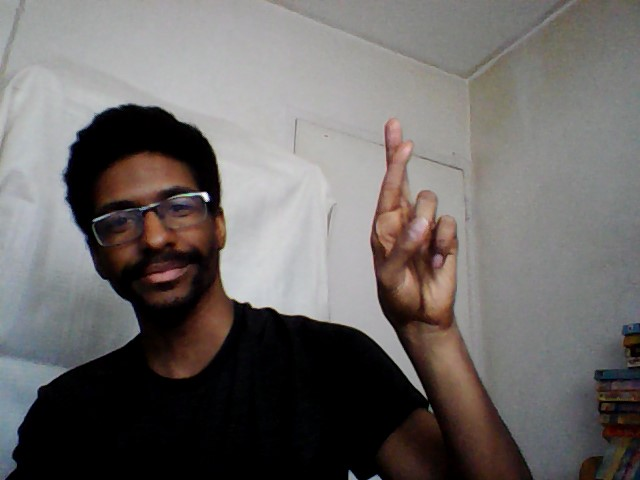r: (369, 114, 462, 328)
